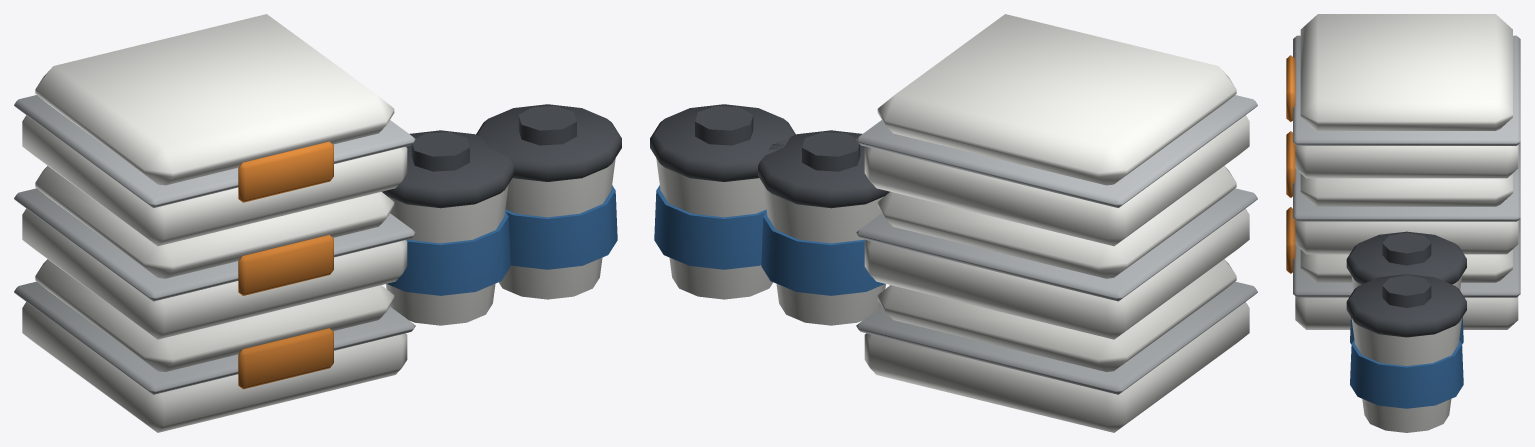
The model's file is SM_TakeoutBoxes_01.glb.
3 renders of one model, left to right at view 1: azimuth 30°, elevation 25°; view 2: azimuth 150°, elevation 25°; view 3: azimuth 270°, elevation 25°, orthographic. The views are drawn at different scales.
Parts seen in each view (by area): view 1: SM_TakeoutBoxes_01; view 2: SM_TakeoutBoxes_01; view 3: SM_TakeoutBoxes_01.
Part boxes in pixels (box(x1,y1,x2,y2)): SM_TakeoutBoxes_01: box(14, 14, 621, 432); SM_TakeoutBoxes_01: box(650, 14, 1257, 432); SM_TakeoutBoxes_01: box(1286, 14, 1520, 432).
Bounding box in the file's own units: 0.446 × 0.224 × 0.21.
1 material, 1 textured.
